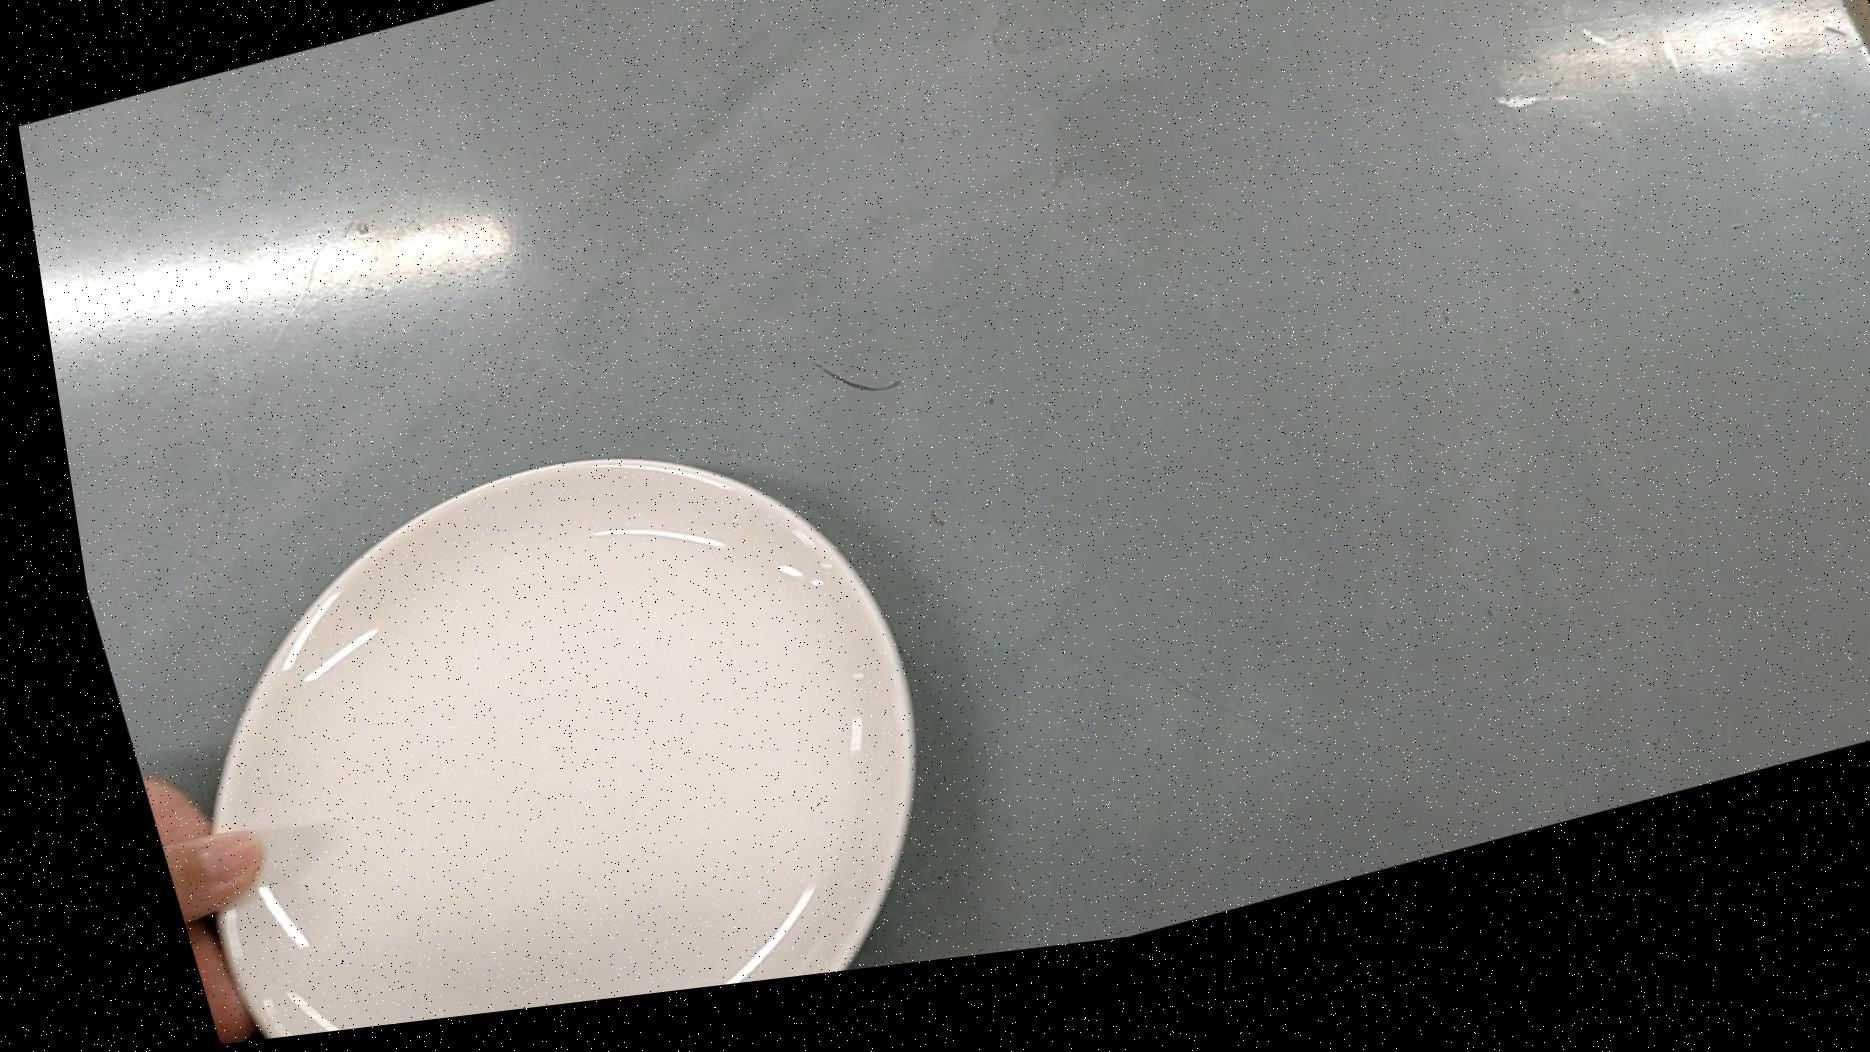plate: (81, 397, 957, 1049)
